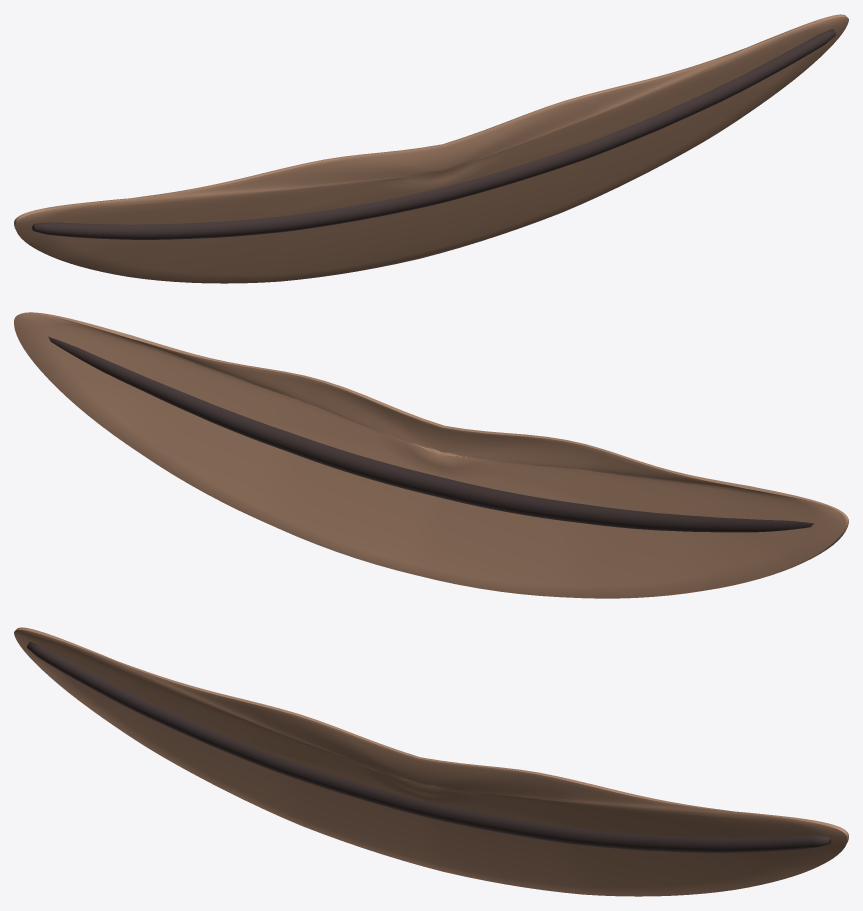
File: Masculine-mouth-lips.glb
The picture shows the model from 3 angles, top to bottom: view 1: azimuth 30°, elevation 25°; view 2: azimuth 150°, elevation 25°; view 3: azimuth 330°, elevation 25°; orthographic projection.
Parts seen in each view (by area): view 1: Face / closed mouth182, Face / closed seam182; view 2: Face / closed mouth182, Face / closed seam182; view 3: Face / closed mouth182, Face / closed seam182.
Boxes of the visible parts, x1=… form: Face / closed mouth182: x1=14, y1=14, x2=848, y2=283; Face / closed seam182: x1=31, y1=29, x2=835, y2=239; Face / closed mouth182: x1=14, y1=312, x2=848, y2=598; Face / closed seam182: x1=48, y1=336, x2=813, y2=532; Face / closed mouth182: x1=14, y1=627, x2=848, y2=896; Face / closed seam182: x1=27, y1=642, x2=831, y2=852.
Size of the model in its own units: 0.1562 by 0.0279 by 0.00927.
